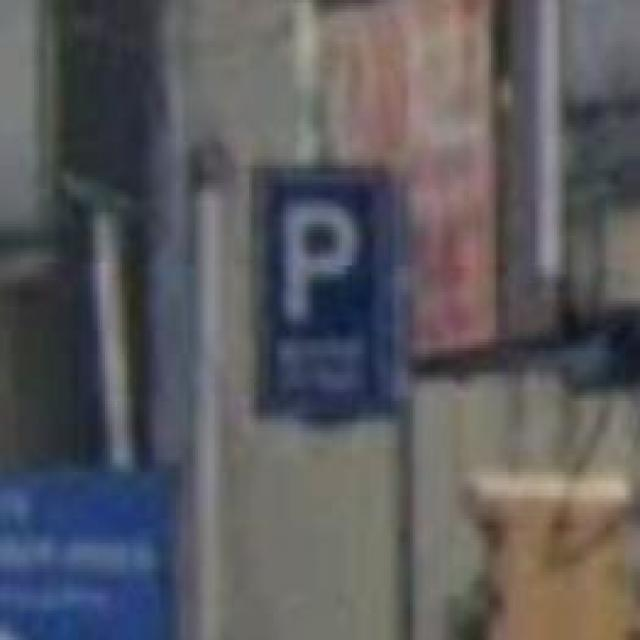traffic sign: (249, 162, 403, 418)
